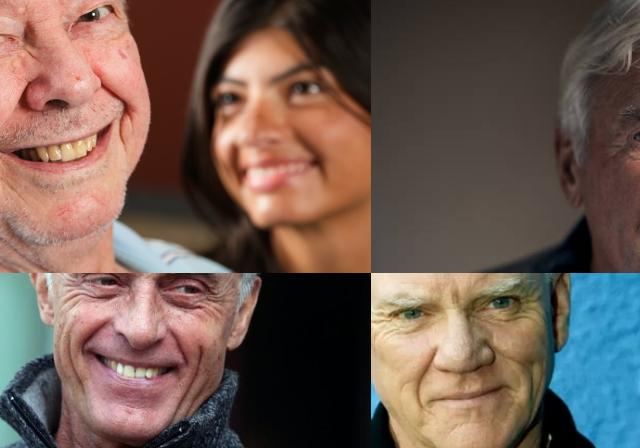chin: (1, 176, 28, 208)
crows_feet: (517, 290, 541, 322), (608, 138, 630, 170), (205, 288, 228, 316), (58, 273, 83, 297), (371, 307, 390, 330)
frown_line: (147, 273, 165, 277)
gummy_smile: (413, 353, 435, 403), (101, 77, 135, 109), (83, 322, 105, 346), (172, 332, 188, 362)
masseter: (523, 363, 537, 411), (71, 370, 91, 394), (63, 334, 77, 368), (178, 378, 192, 410), (192, 341, 204, 375)
sad_smile: (110, 116, 134, 150)
